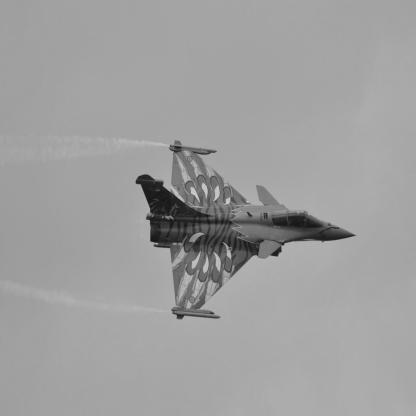JAS39: (137, 141, 357, 321)
